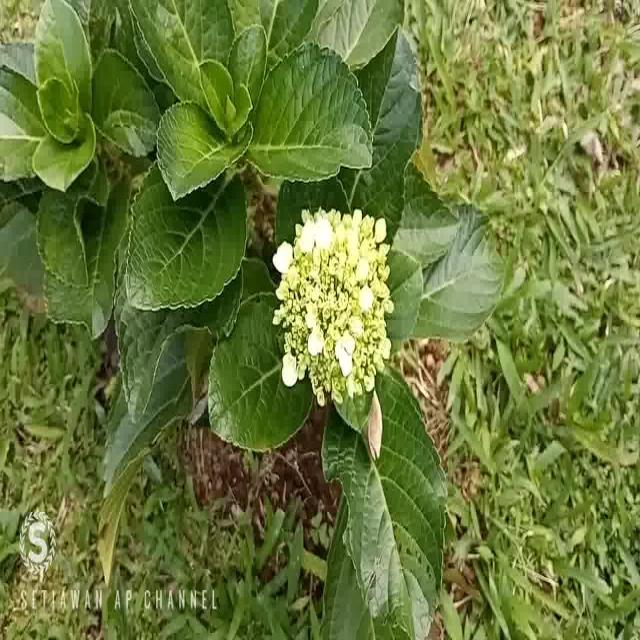Flower: (268, 197, 400, 409)
